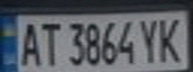3: (63, 18, 84, 66)
4: (115, 17, 139, 65)
6: (100, 18, 121, 66)
8: (81, 18, 103, 66)
A: (15, 18, 42, 68)
K: (154, 14, 190, 63)
T: (36, 18, 63, 68)
Y: (136, 15, 163, 64)
